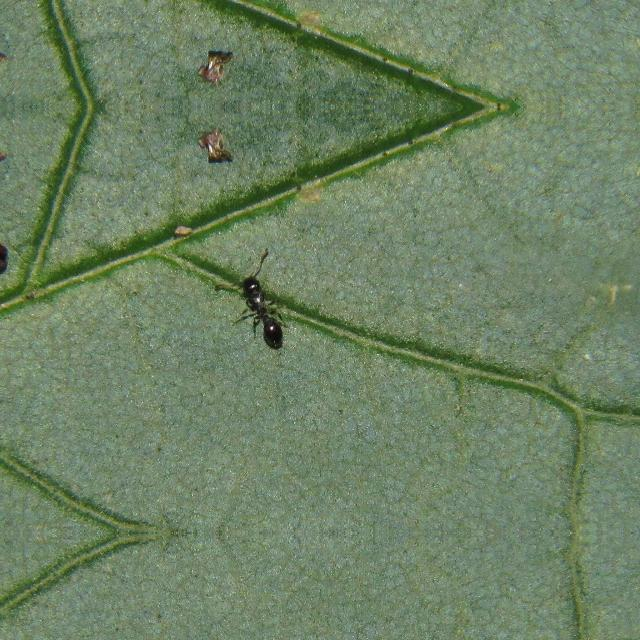Temnothorax: (219, 258, 301, 348)
